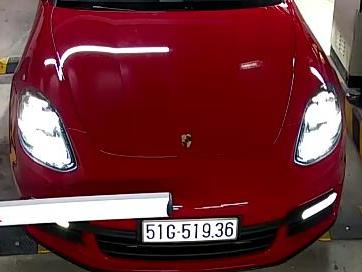number: (142, 217, 238, 243)
